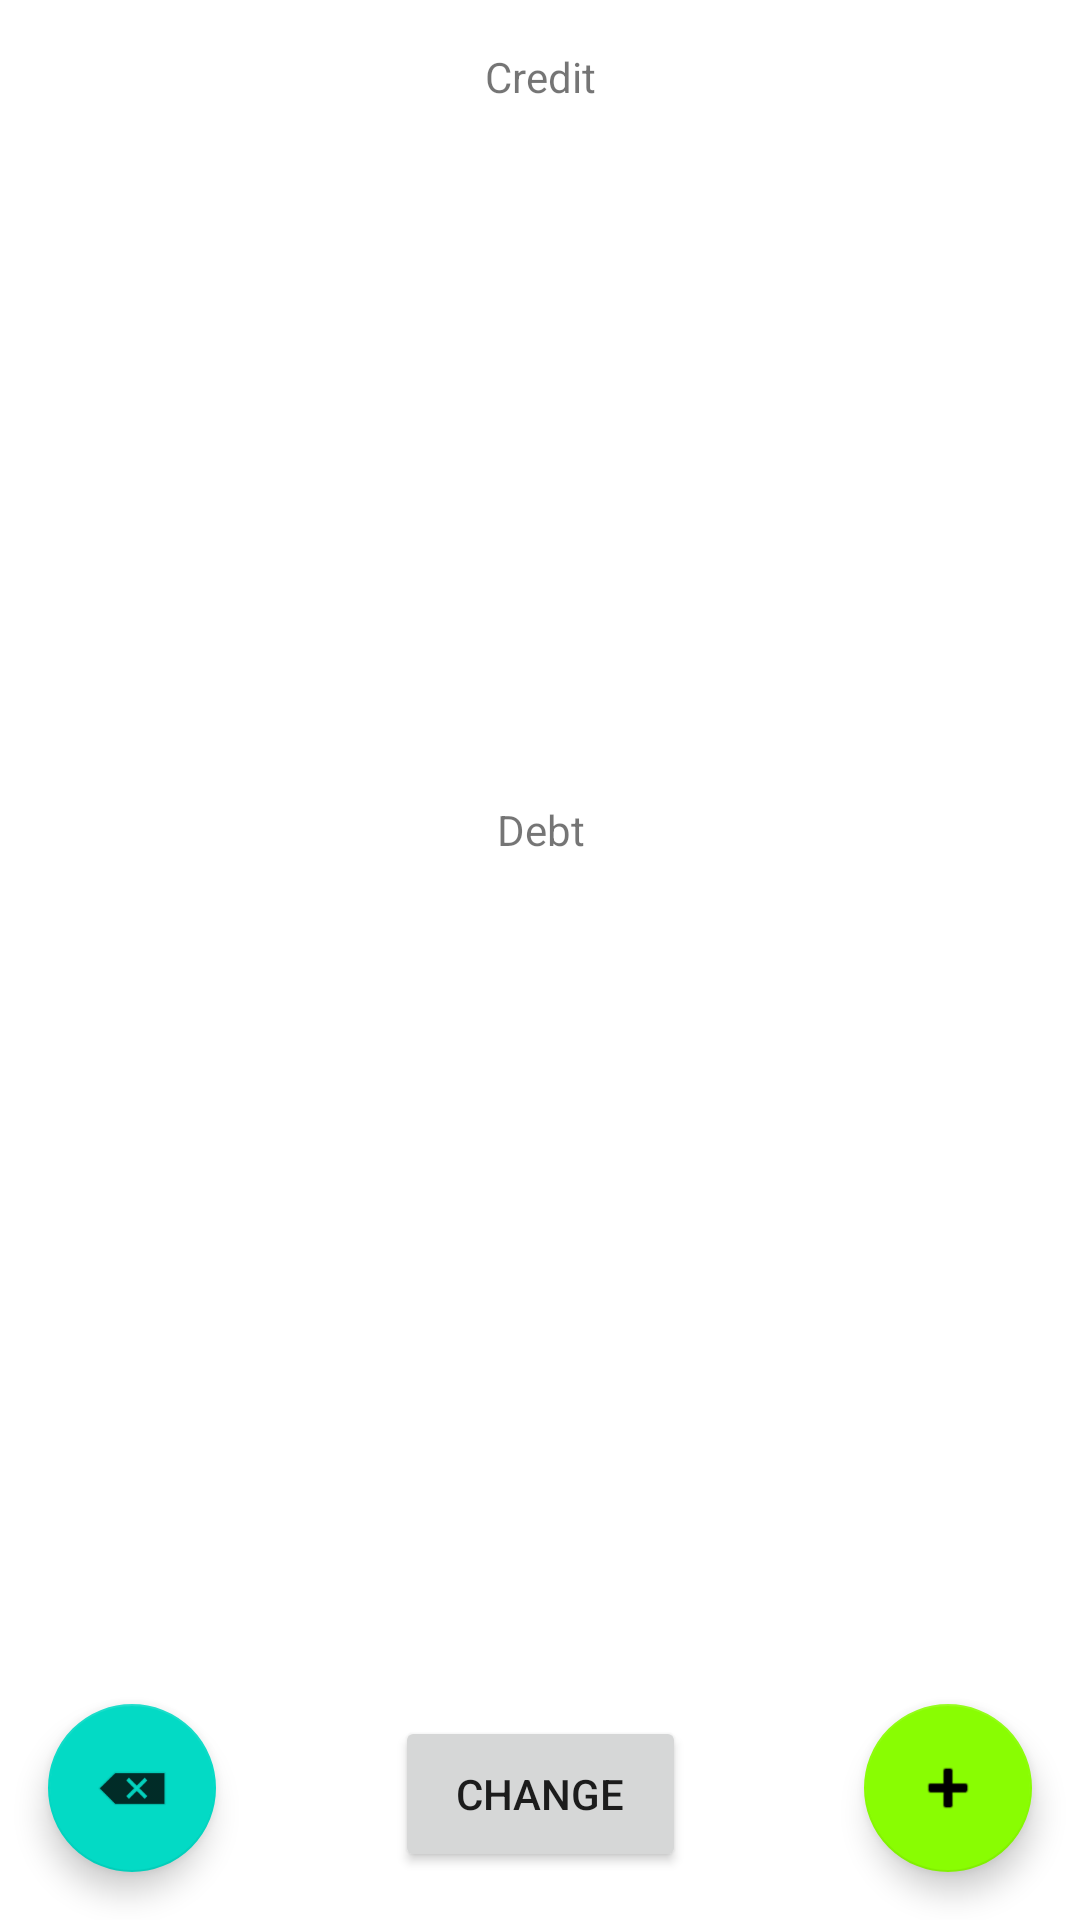

Icons on this 1080px x 1920px Android screen, each with its box as (x1, y1, x2, y2):
add: (864, 1704, 1032, 1872)
removebutt: (48, 1704, 216, 1872)
